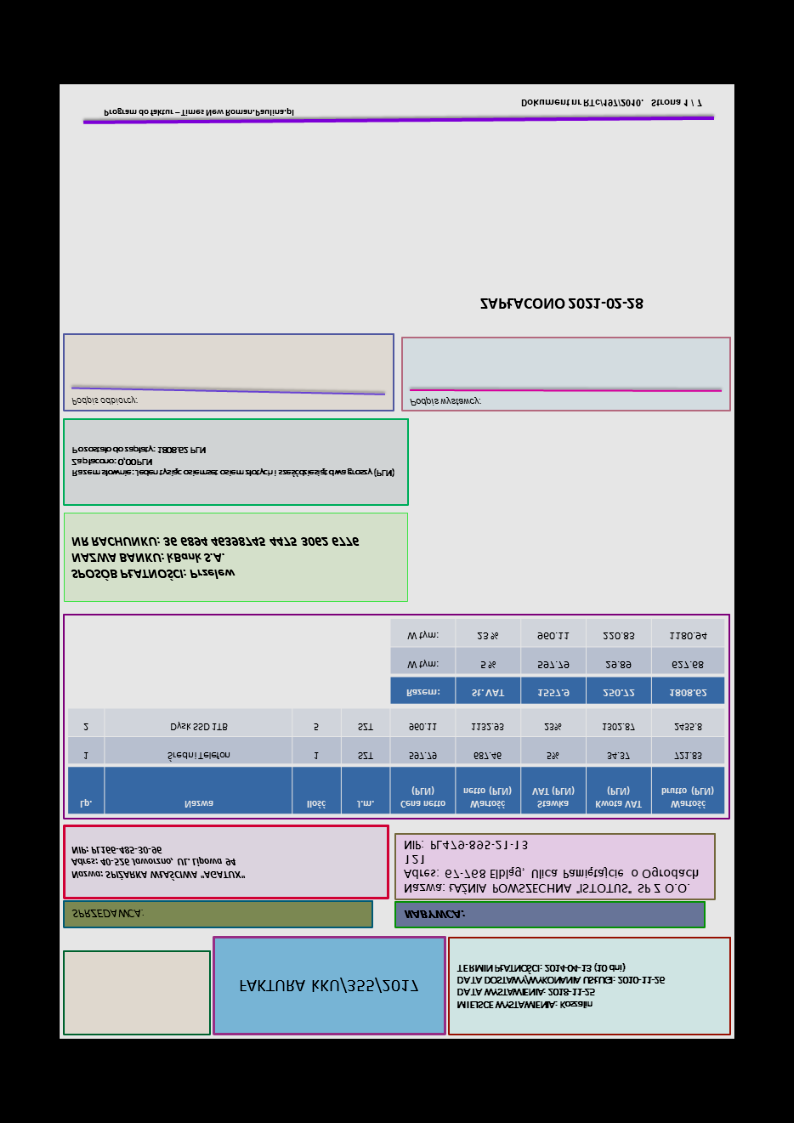Table: (66, 707, 725, 815), (389, 617, 727, 706)
TextBox: (400, 838, 700, 897), (68, 531, 360, 586), (70, 443, 399, 482), (455, 961, 666, 1014), (69, 844, 247, 882), (237, 975, 420, 996), (479, 296, 645, 313), (519, 96, 706, 111), (100, 105, 297, 119), (69, 906, 145, 923), (408, 394, 484, 409), (69, 394, 139, 410), (402, 907, 467, 923)
